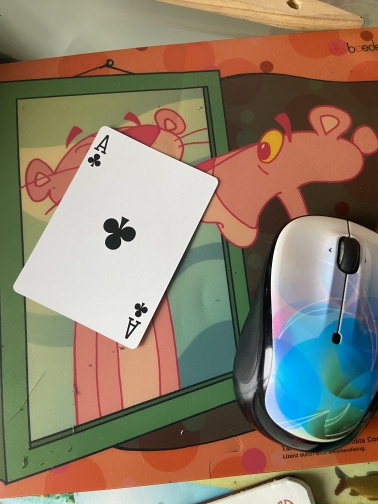ace: (12, 125, 220, 350)
